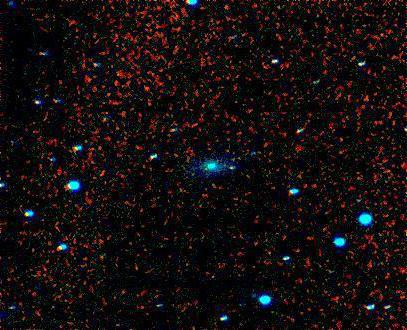star: (215, 156, 245, 186)
